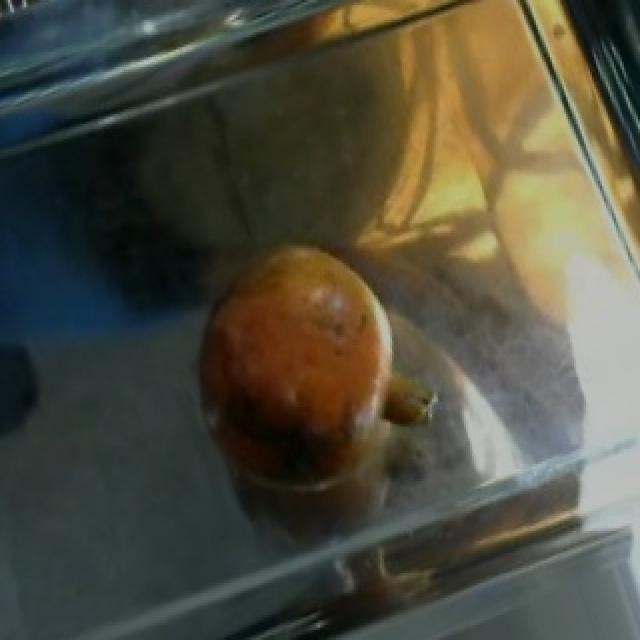fruit: (170, 218, 422, 501)
